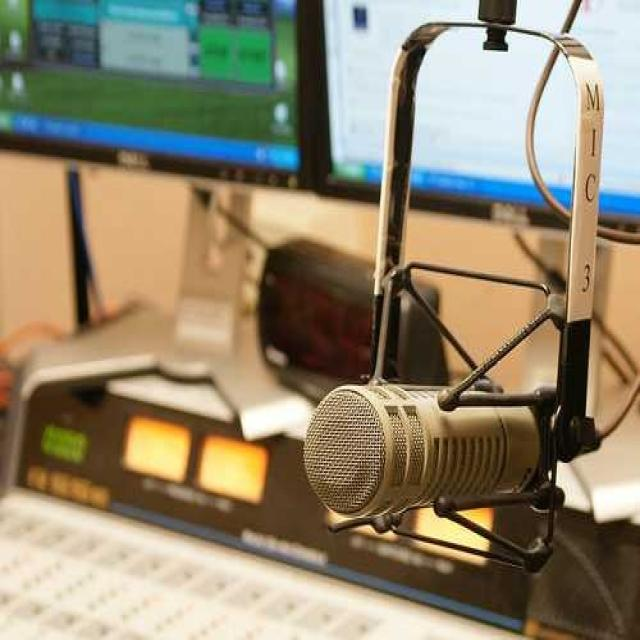microphone: (302, 380, 540, 522)
